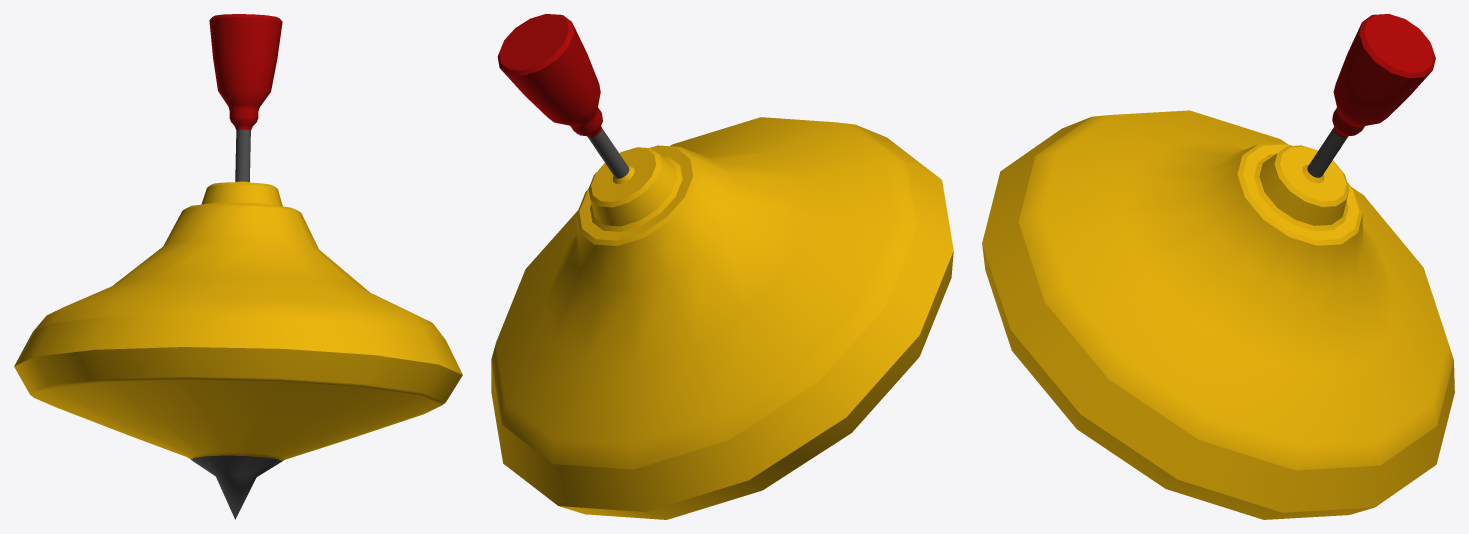
File: piao.fbx
The picture shows the model from 3 angles, left to right: view 1: azimuth 30°, elevation 25°; view 2: azimuth 150°, elevation 25°; view 3: azimuth 270°, elevation 25°; orthographic projection. The views are drawn at different scales.
Parts seen in each view (by area): view 1: pião; view 2: pião; view 3: pião.
Boxes of the visible parts, left/top/right/bottom form: pião: left=14, top=14, right=462, bottom=519; pião: left=491, top=14, right=953, bottom=519; pião: left=982, top=14, right=1454, bottom=519.
Size of the model in its own units: 5.02 by 5.25 by 4.7.
